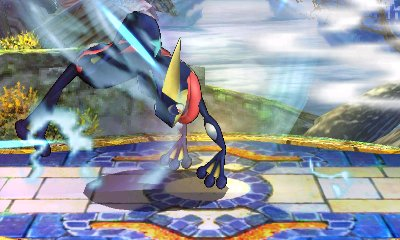greninja: (13, 11, 233, 191)
